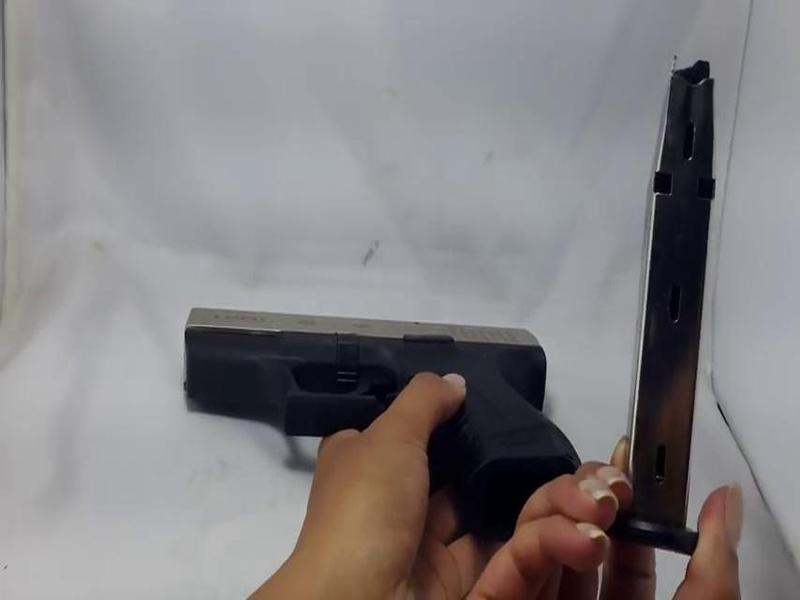Pistola: (171, 270, 593, 543)
